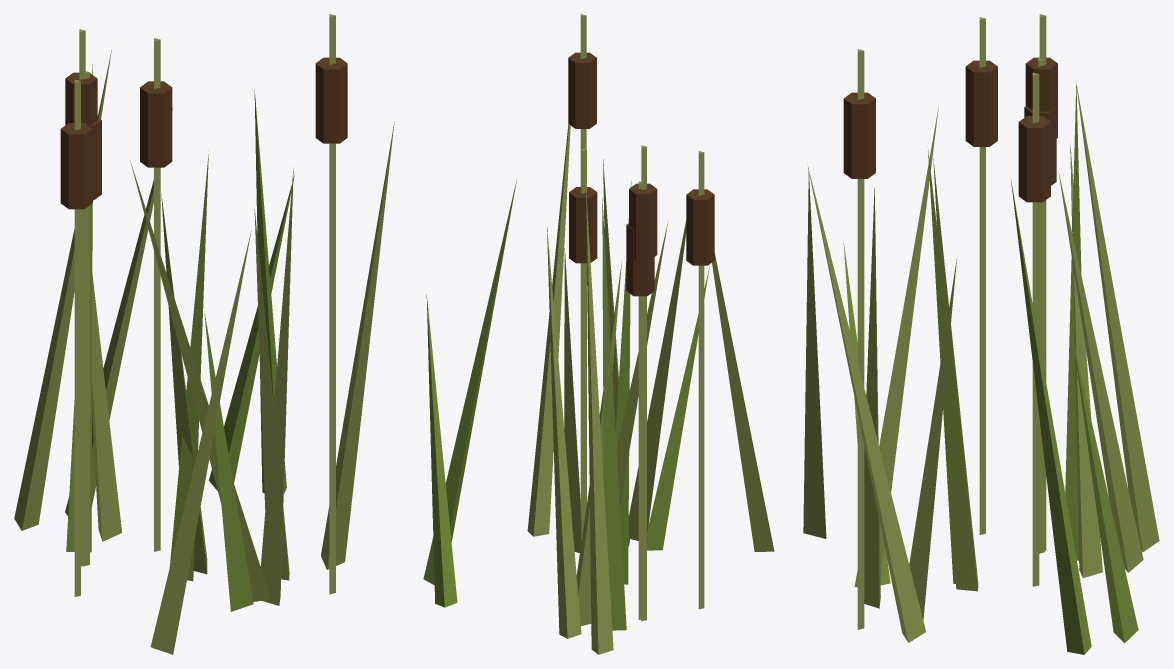
Rendered from kaveldun_2.glb.
The picture shows the model from 3 angles, left to right: view 1: azimuth 30°, elevation 25°; view 2: azimuth 150°, elevation 25°; view 3: azimuth 270°, elevation 25°; orthographic projection. The views are drawn at different scales.
Visible parts, largest first — view 1: kaveldun_2; view 2: kaveldun_2; view 3: kaveldun_2.
Part boxes in pixels (x1=…): kaveldun_2: x1=14, y1=14, x2=394, y2=654; kaveldun_2: x1=423, y1=14, x2=774, y2=654; kaveldun_2: x1=803, y1=14, x2=1159, y2=654.
Size of the model in its own units: 1.09 by 2.17 by 1.21.
